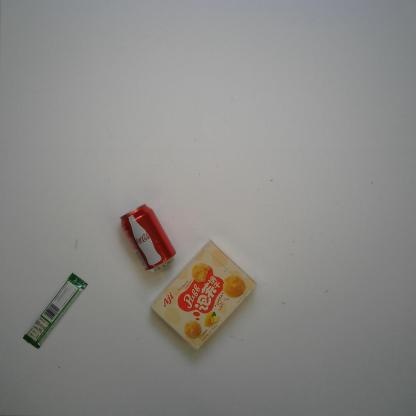Chocolate: (23, 272, 88, 350)
Dessert: (150, 239, 257, 351)
Drink: (120, 202, 177, 273)
